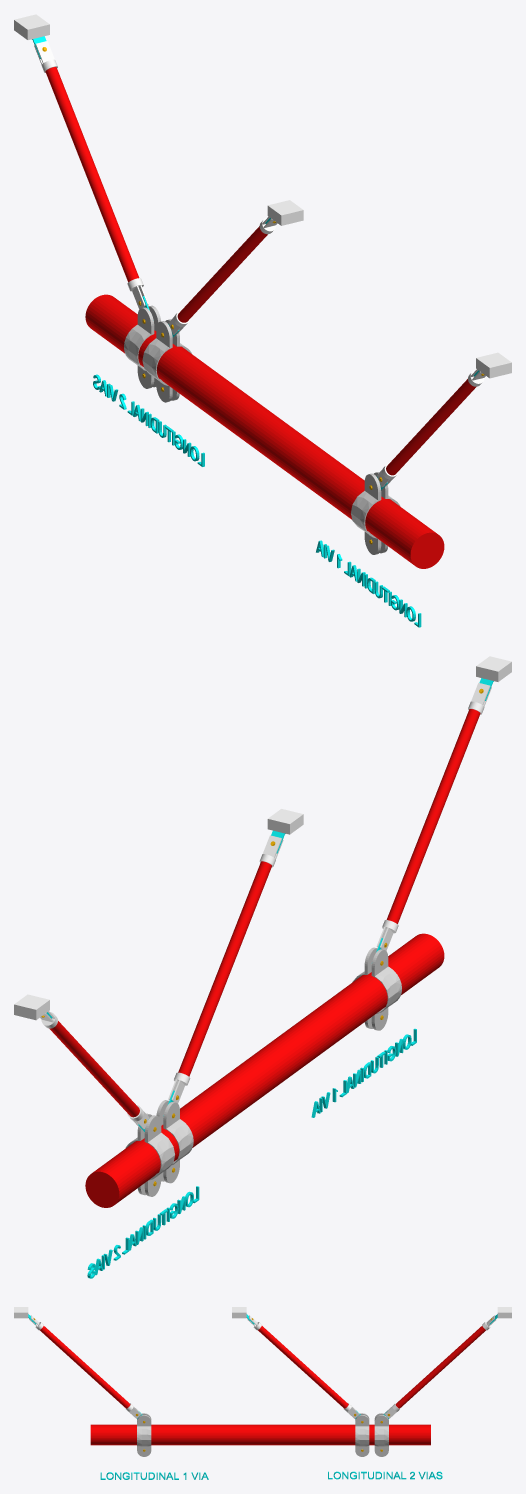
Rendered from soporte_long.glb.
The picture shows the model from 3 angles, top to bottom: view 1: azimuth 30°, elevation 25°; view 2: azimuth 150°, elevation 25°; view 3: azimuth 270°, elevation 25°; orthographic projection. The views are drawn at different scales.
Parts seen in each view (by area): view 1: Geom3D (×12); view 2: Geom3D (×12); view 3: Geom3D (×9).
Part boxes in pixels (box(x1,y1,x2,y2)): Geom3D (×12): box(14, 14, 511, 627); Geom3D (×12): box(14, 656, 511, 1278); Geom3D (×9): box(40, 1326, 485, 1479).
Bounding box in the file's own units: 74.19 × 606 × 1617.
